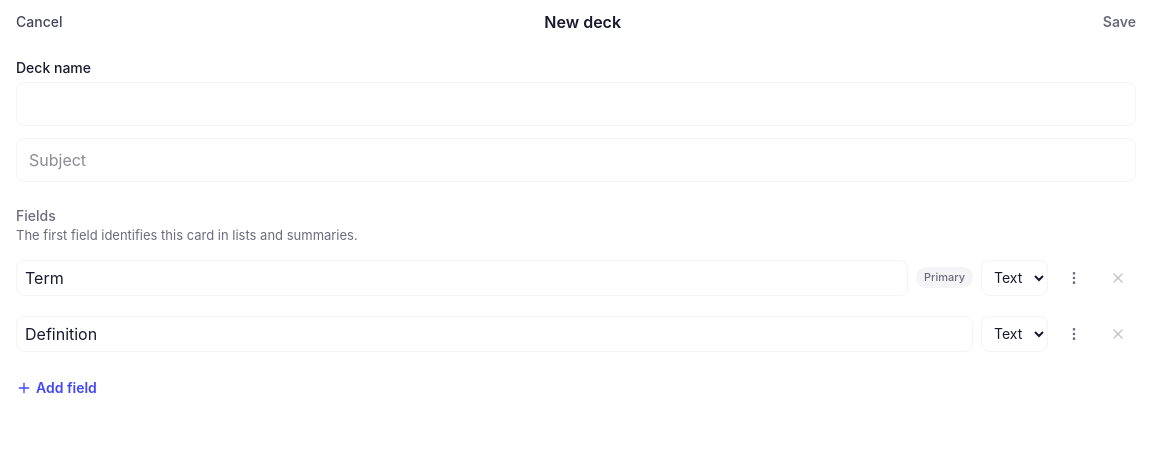
Test case: DeckEditor — create mode › duplicate field names show an inline error
Replace the text in the 2nd field named "Field name" with "Term": (494, 334) x1=16 y1=316 x2=973 y2=352
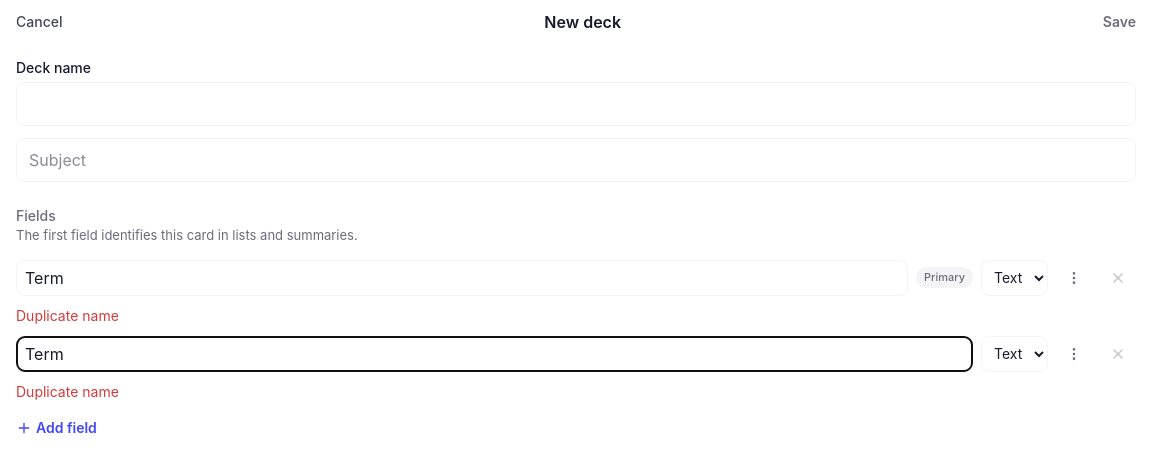
Now the text "Duplicate name" is shown 2 times, box x1=16 y1=306 x2=119 y2=324; x1=16 y1=382 x2=119 y2=400
